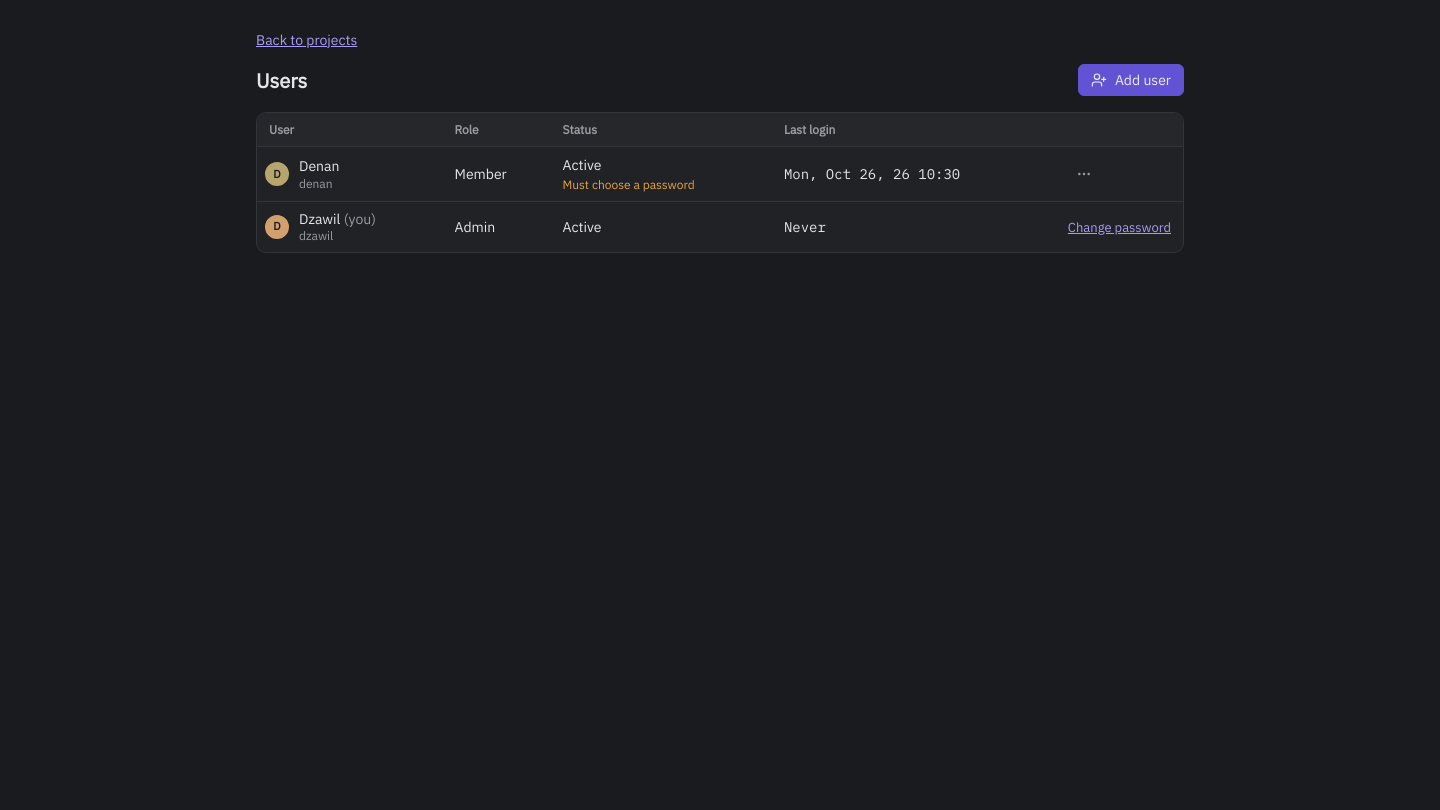
UsersPage › makes someone an admin
The width and height of the screenshot is (1440, 810).
Click the button named "Actions for Denan" at [1084, 174], box x1=1068 y1=158 x2=1100 y2=190
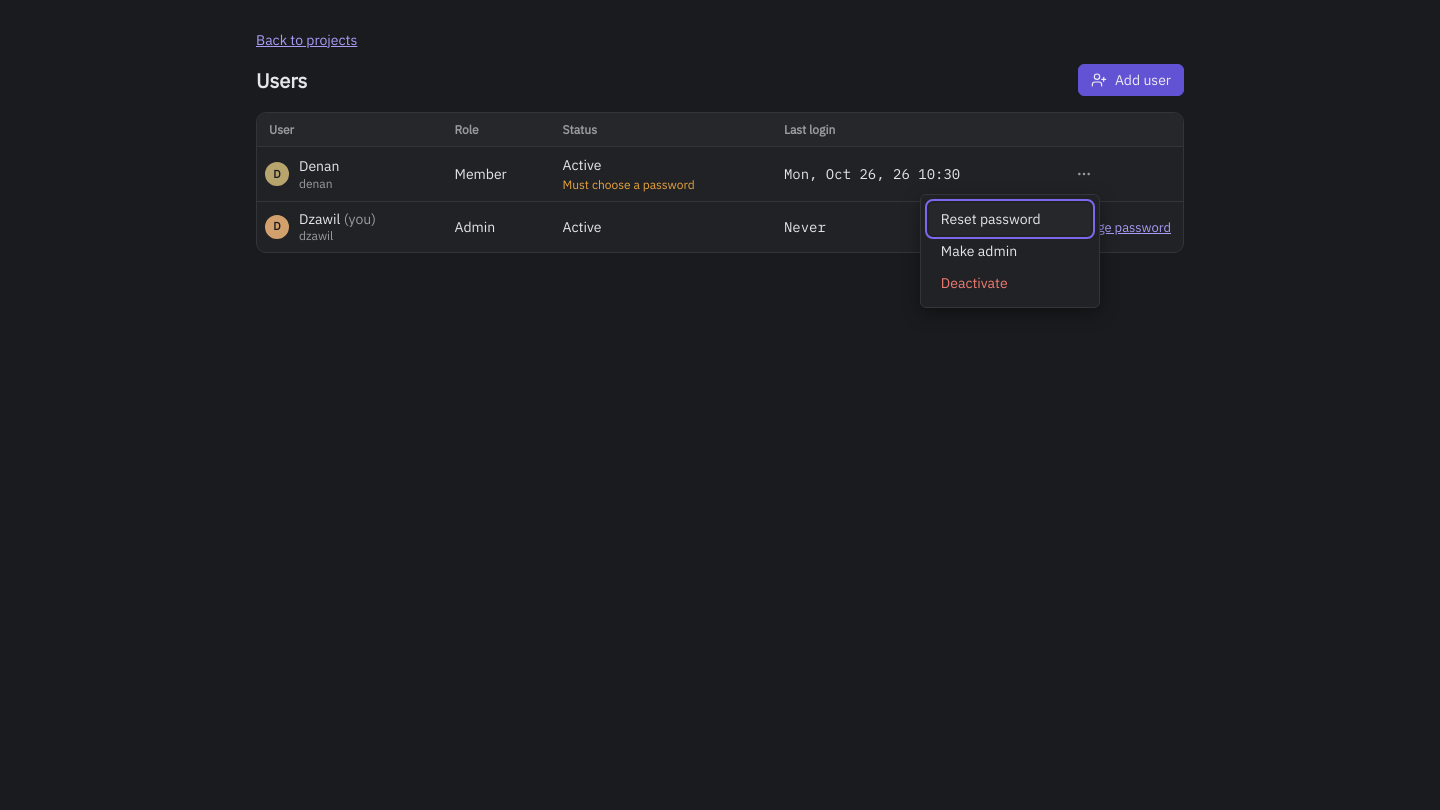
Click the menu item "Make admin" at [1010, 251], box x1=929 y1=235 x2=1091 y2=267
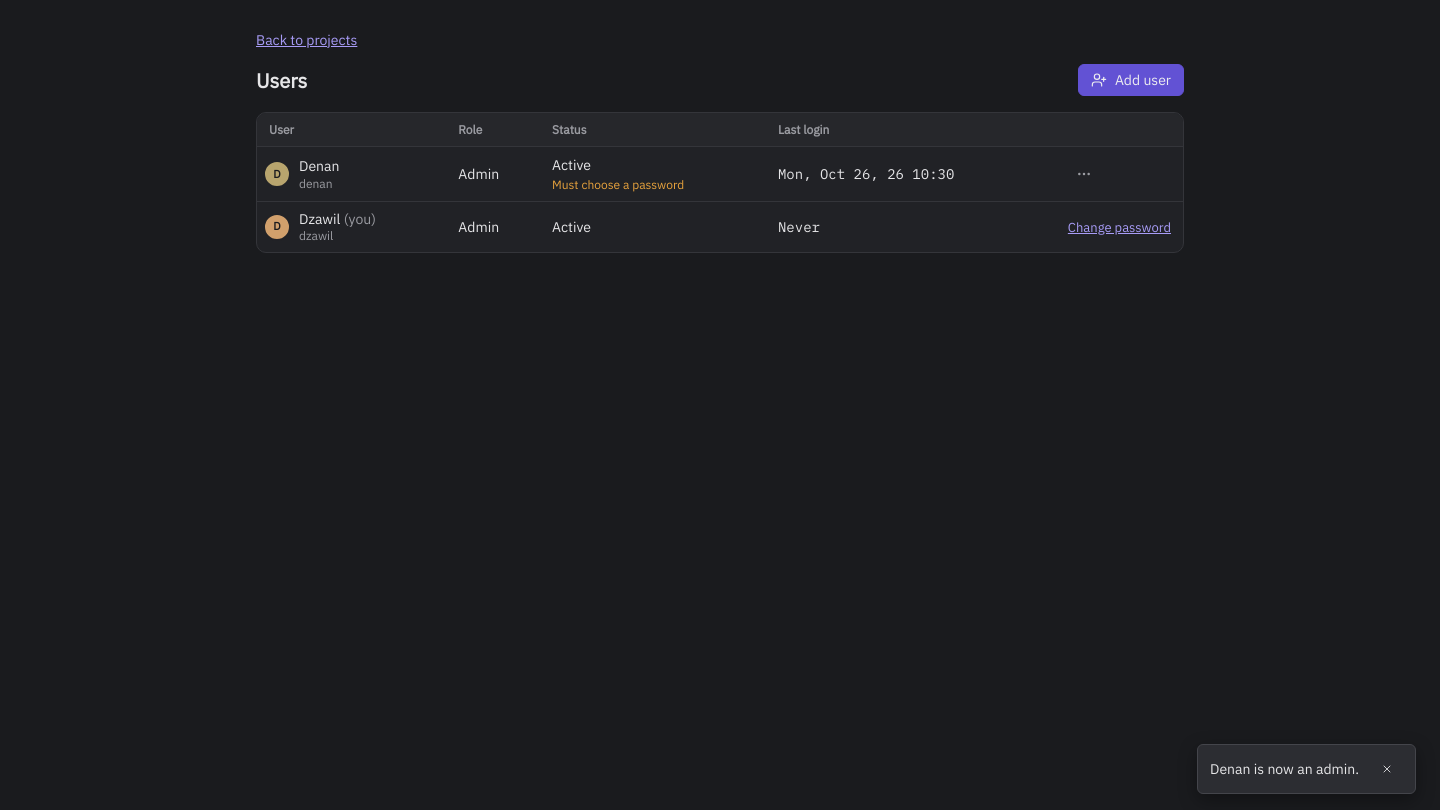
Check: the text "Denan is now an admin." is shown, box x1=1210 y1=759 x2=1359 y2=779
